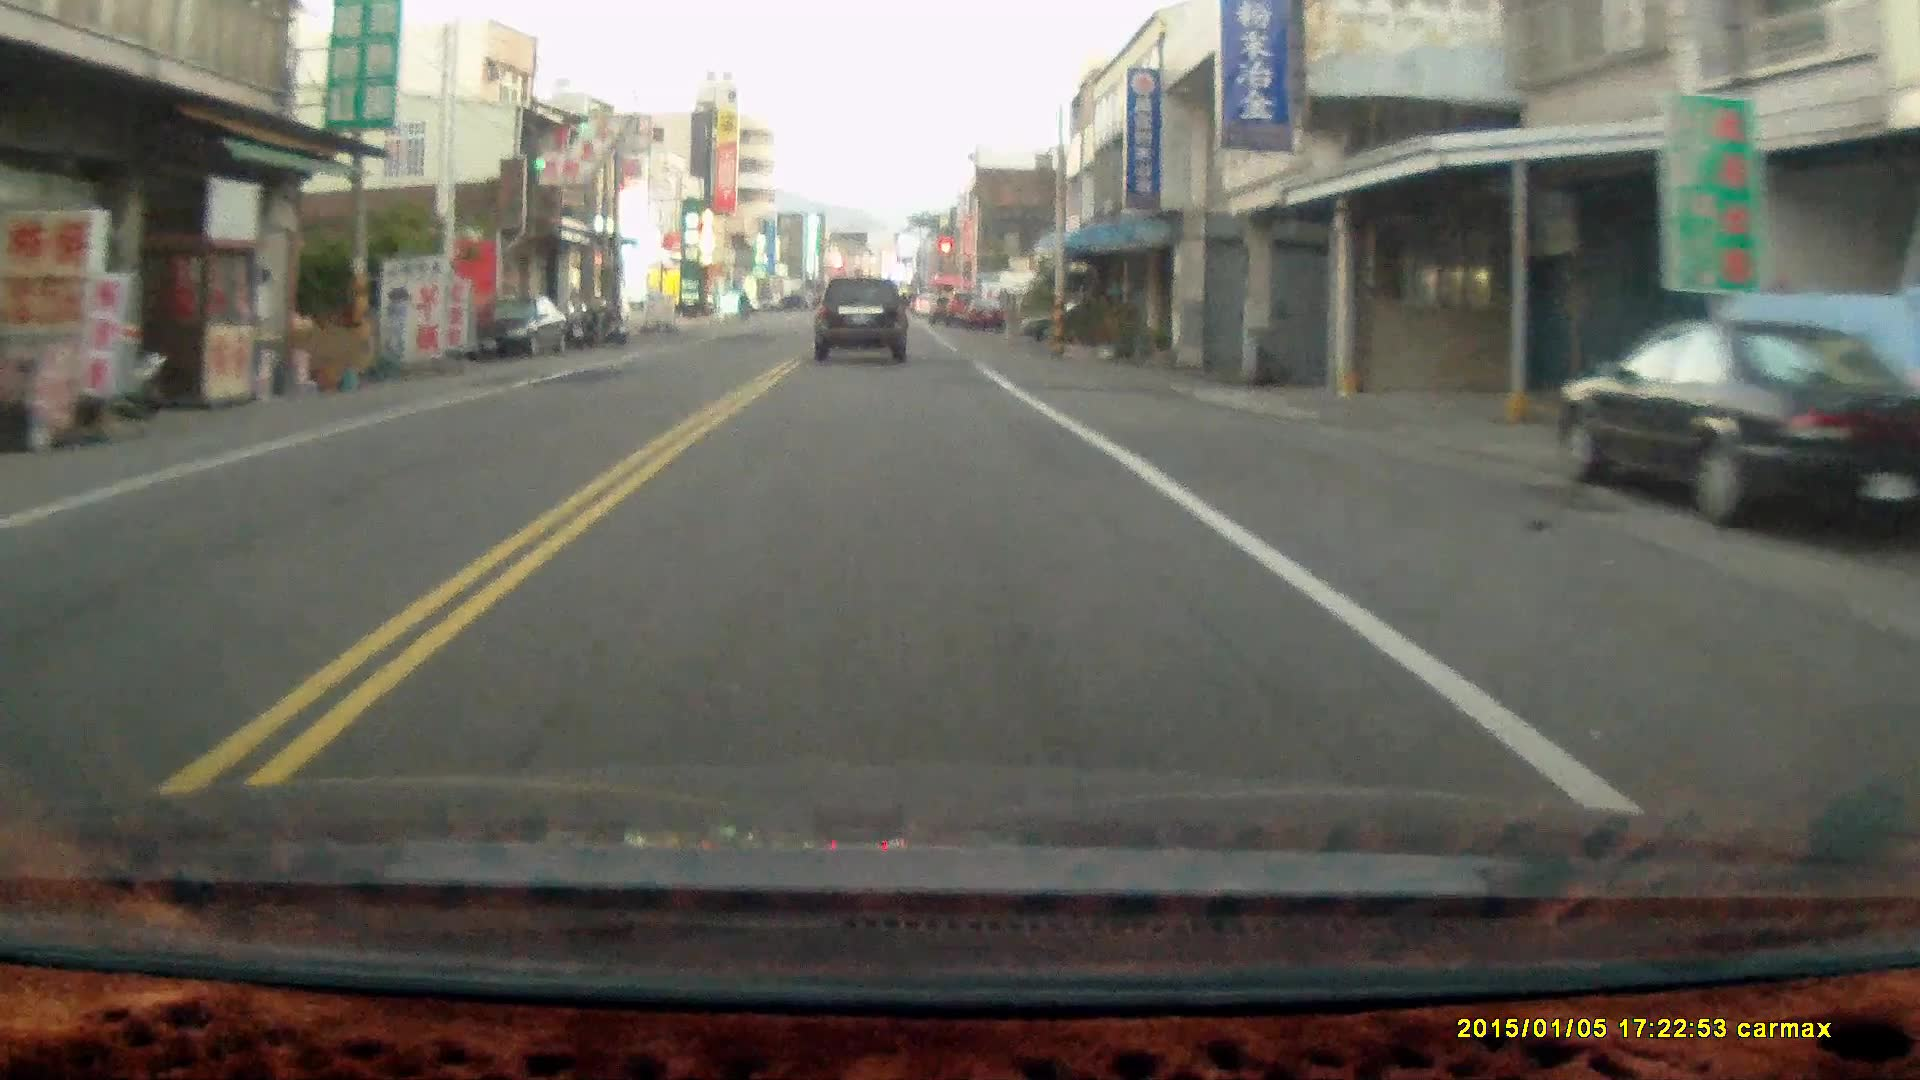vehicle: (1553, 319, 1920, 541), (814, 277, 910, 365), (460, 299, 566, 361)
